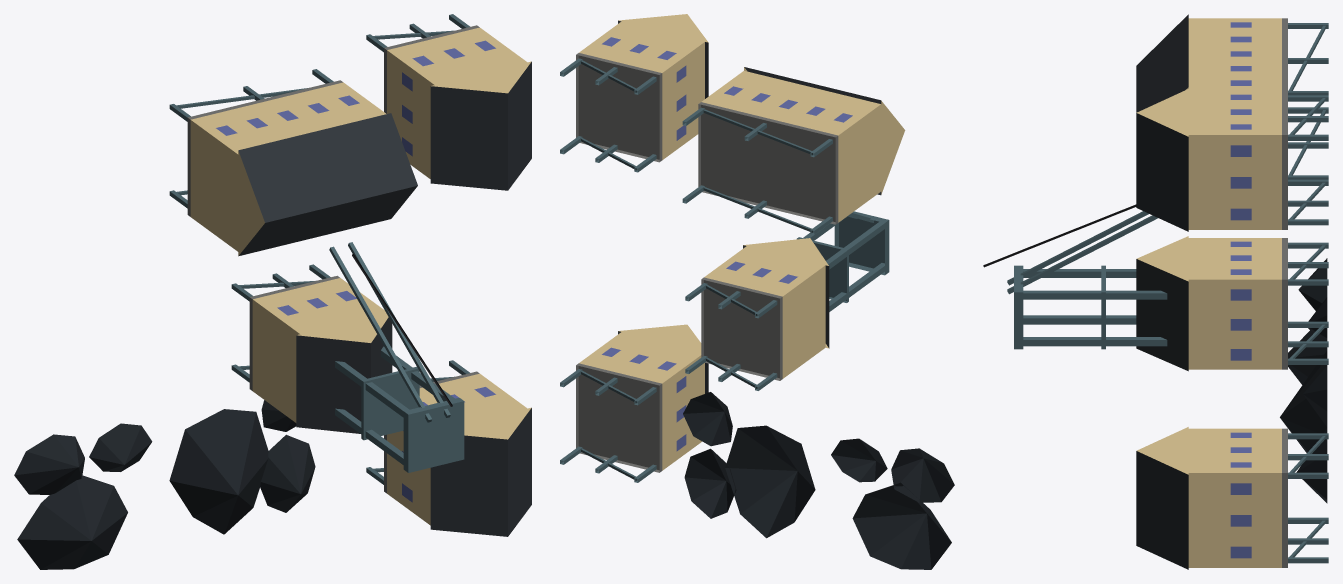
File: complete.glb
The picture shows the model from 3 angles, left to right: view 1: azimuth 30°, elevation 25°; view 2: azimuth 150°, elevation 25°; view 3: azimuth 270°, elevation 25°; orthographic projection. The views are drawn at different scales.
Parts seen in each view (by area): view 1: t12_g2.003, t11_g0.003, t22_g3.003, t20_g3.003, t10_g6.003, t00_g5.003; view 2: t12_g2.003, t11_g0.003, t22_g3.003, t20_g3.003, t10_g6.003, t00_g5.003; view 3: t11_g0.003, t22_g3.003, t20_g3.003, t12_g2.003, t10_g6.003, t00_g5.003.
Boxes of the visible parts, left/top/right/bottom form: t12_g2.003: left=169, top=69, right=417, bottom=256; t11_g0.003: left=231, top=242, right=464, bottom=472; t22_g3.003: left=366, top=14, right=531, bottom=190; t20_g3.003: left=366, top=360, right=531, bottom=536; t10_g6.003: left=169, top=400, right=315, bottom=534; t00_g5.003: left=14, top=423, right=152, bottom=569; t12_g2.003: left=682, top=67, right=905, bottom=234; t11_g0.003: left=685, top=211, right=889, bottom=390; t22_g3.003: left=560, top=14, right=708, bottom=172; t20_g3.003: left=560, top=324, right=708, bottom=482; t10_g6.003: left=683, top=392, right=815, bottom=538; t00_g5.003: left=831, top=438, right=954, bottom=569; t11_g0.003: left=983, top=204, right=1328, bottom=371; t22_g3.003: left=1136, top=89, right=1328, bottom=231; t20_g3.003: left=1136, top=427, right=1328, bottom=569; t12_g2.003: left=1136, top=14, right=1328, bottom=179; t10_g6.003: left=1280, top=350, right=1327, bottom=503; t00_g5.003: left=1288, top=258, right=1327, bottom=384.
Size of the model in its own units: 43.22 by 43.29 by 29.63.
